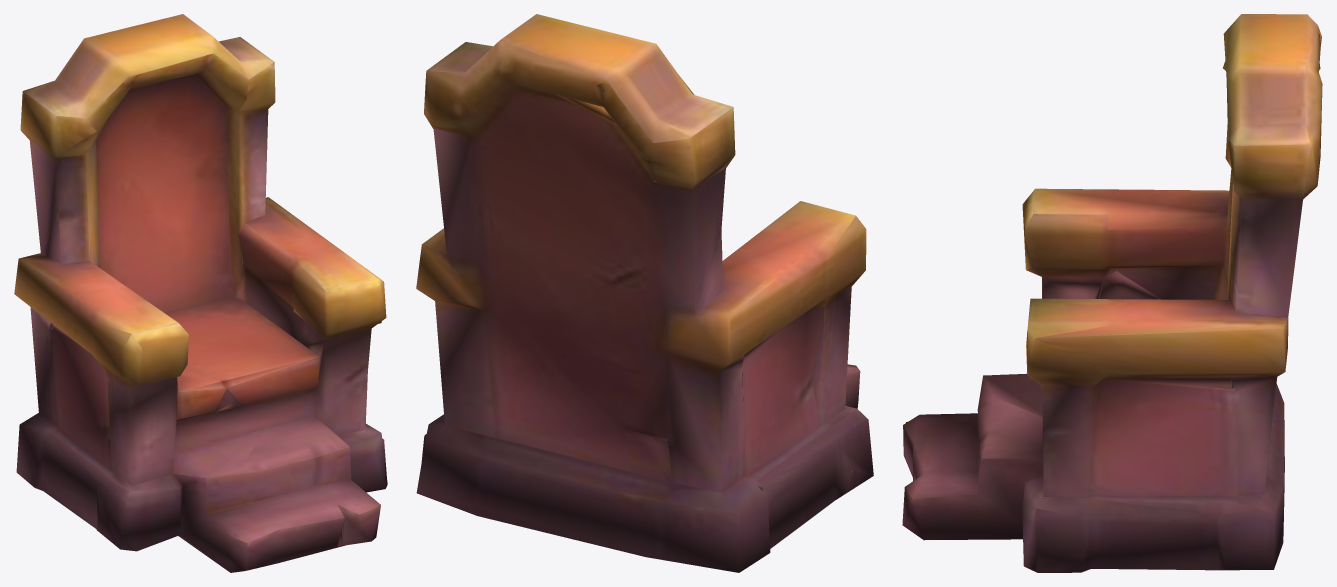
The model's file is lg-knight-throne.glb.
3 views of the same model, side by side, from view 1: azimuth 30°, elevation 25°; view 2: azimuth 150°, elevation 25°; view 3: azimuth 270°, elevation 25° (orthographic). The views are drawn at different scales.
Visible parts, largest first — view 1: geometry_0; view 2: geometry_0; view 3: geometry_0.
Boxes of the visible parts, x1=… form: geometry_0: x1=14, y1=14, x2=387, y2=572; geometry_0: x1=416, y1=14, x2=873, y2=572; geometry_0: x1=902, y1=14, x2=1322, y2=572.
Bounding box in the file's own units: 0.7046 × 1 × 0.8305.
1 material, 1 textured.
